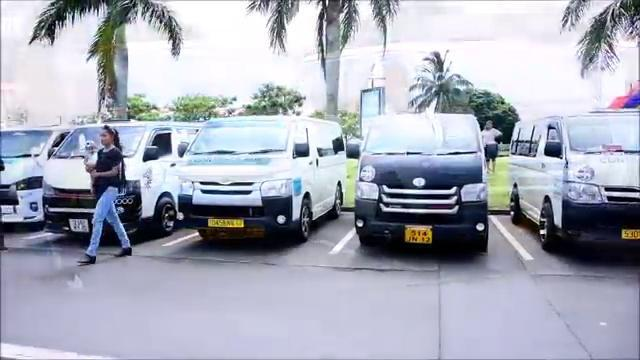van: (180, 119, 348, 248), (358, 111, 494, 255), (510, 114, 640, 257), (48, 126, 180, 238)
